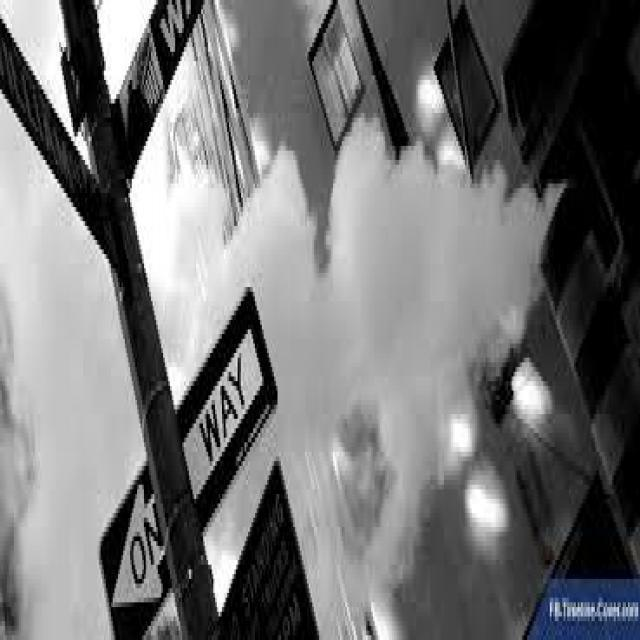Smoke: (210, 142, 566, 520), (0, 217, 136, 593)
